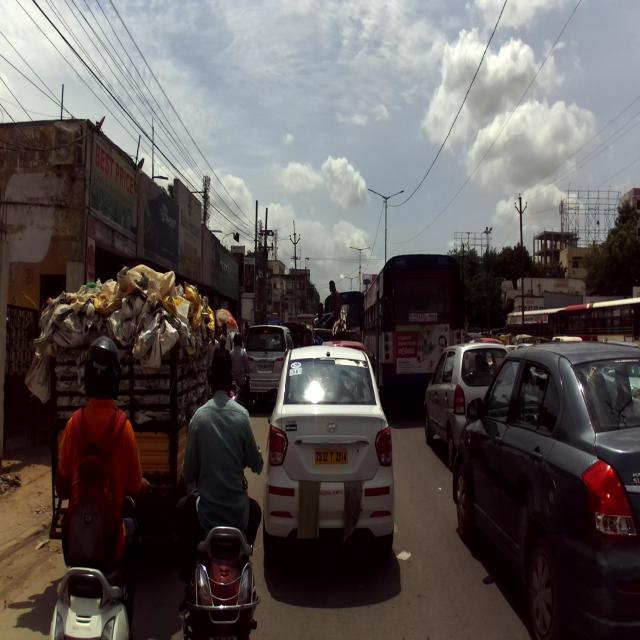autorickshaw: (24, 262, 215, 566)
bus: (358, 252, 461, 413)
car: (452, 340, 640, 640), (262, 344, 394, 557), (422, 341, 508, 472)
scooter: (49, 476, 154, 640), (180, 445, 261, 639)
